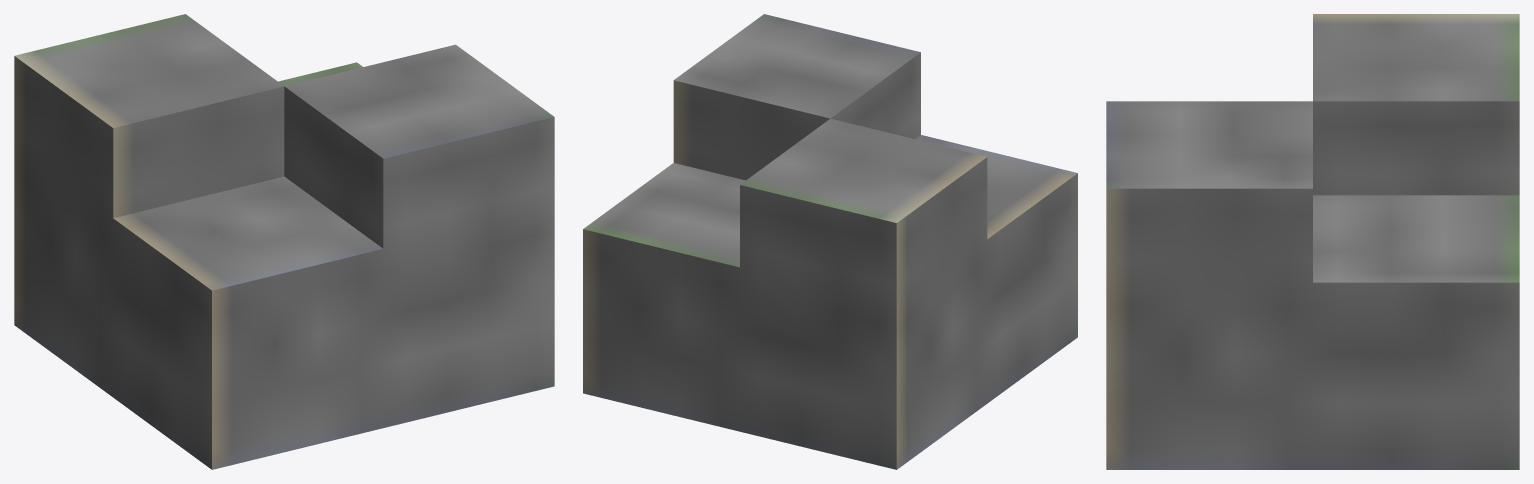
File: Stone_Destroy_Step2.fbx
The picture shows the model from 3 angles, left to right: view 1: azimuth 30°, elevation 25°; view 2: azimuth 150°, elevation 25°; view 3: azimuth 270°, elevation 25°; orthographic projection. The views are drawn at different scales.
Visible parts, largest first — view 1: Stone_Destroy_Step2; view 2: Stone_Destroy_Step2; view 3: Stone_Destroy_Step2.
Boxes of the visible parts, x1,y1,x2,y2 form: Stone_Destroy_Step2: [14, 14, 554, 469]; Stone_Destroy_Step2: [583, 14, 1077, 469]; Stone_Destroy_Step2: [1106, 14, 1519, 469].
Size of the model in its own units: 25 by 18.79 by 25.
1 material, 1 textured.
